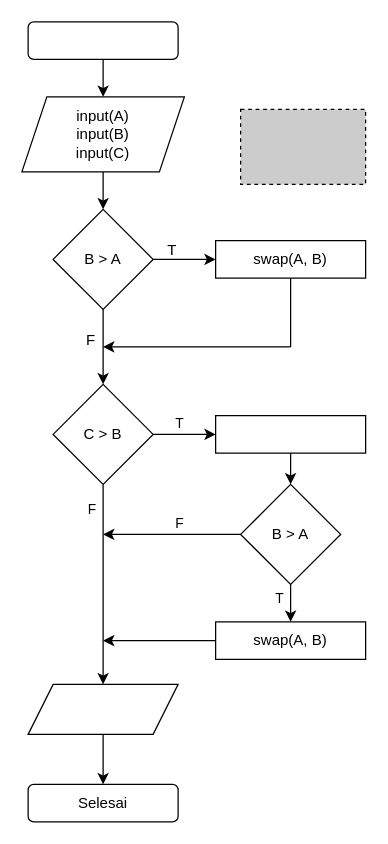
Image size: 388x844. Some labels were removed from this diagram. The centre of each missing label's shape, as x and y in pixels:
Mulai: [102,40]
output(A, B, C): [102,708]
swap(B, C): [290,433]
swap(x, y): temp ← x x ← y y ← temp: [302,146]
